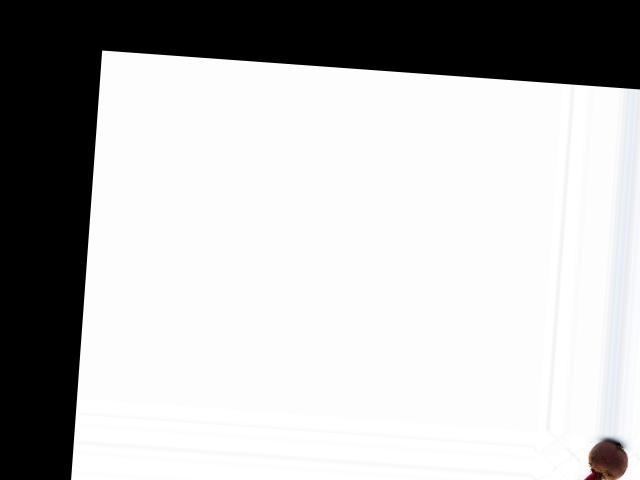beet: (550, 437, 630, 480)
